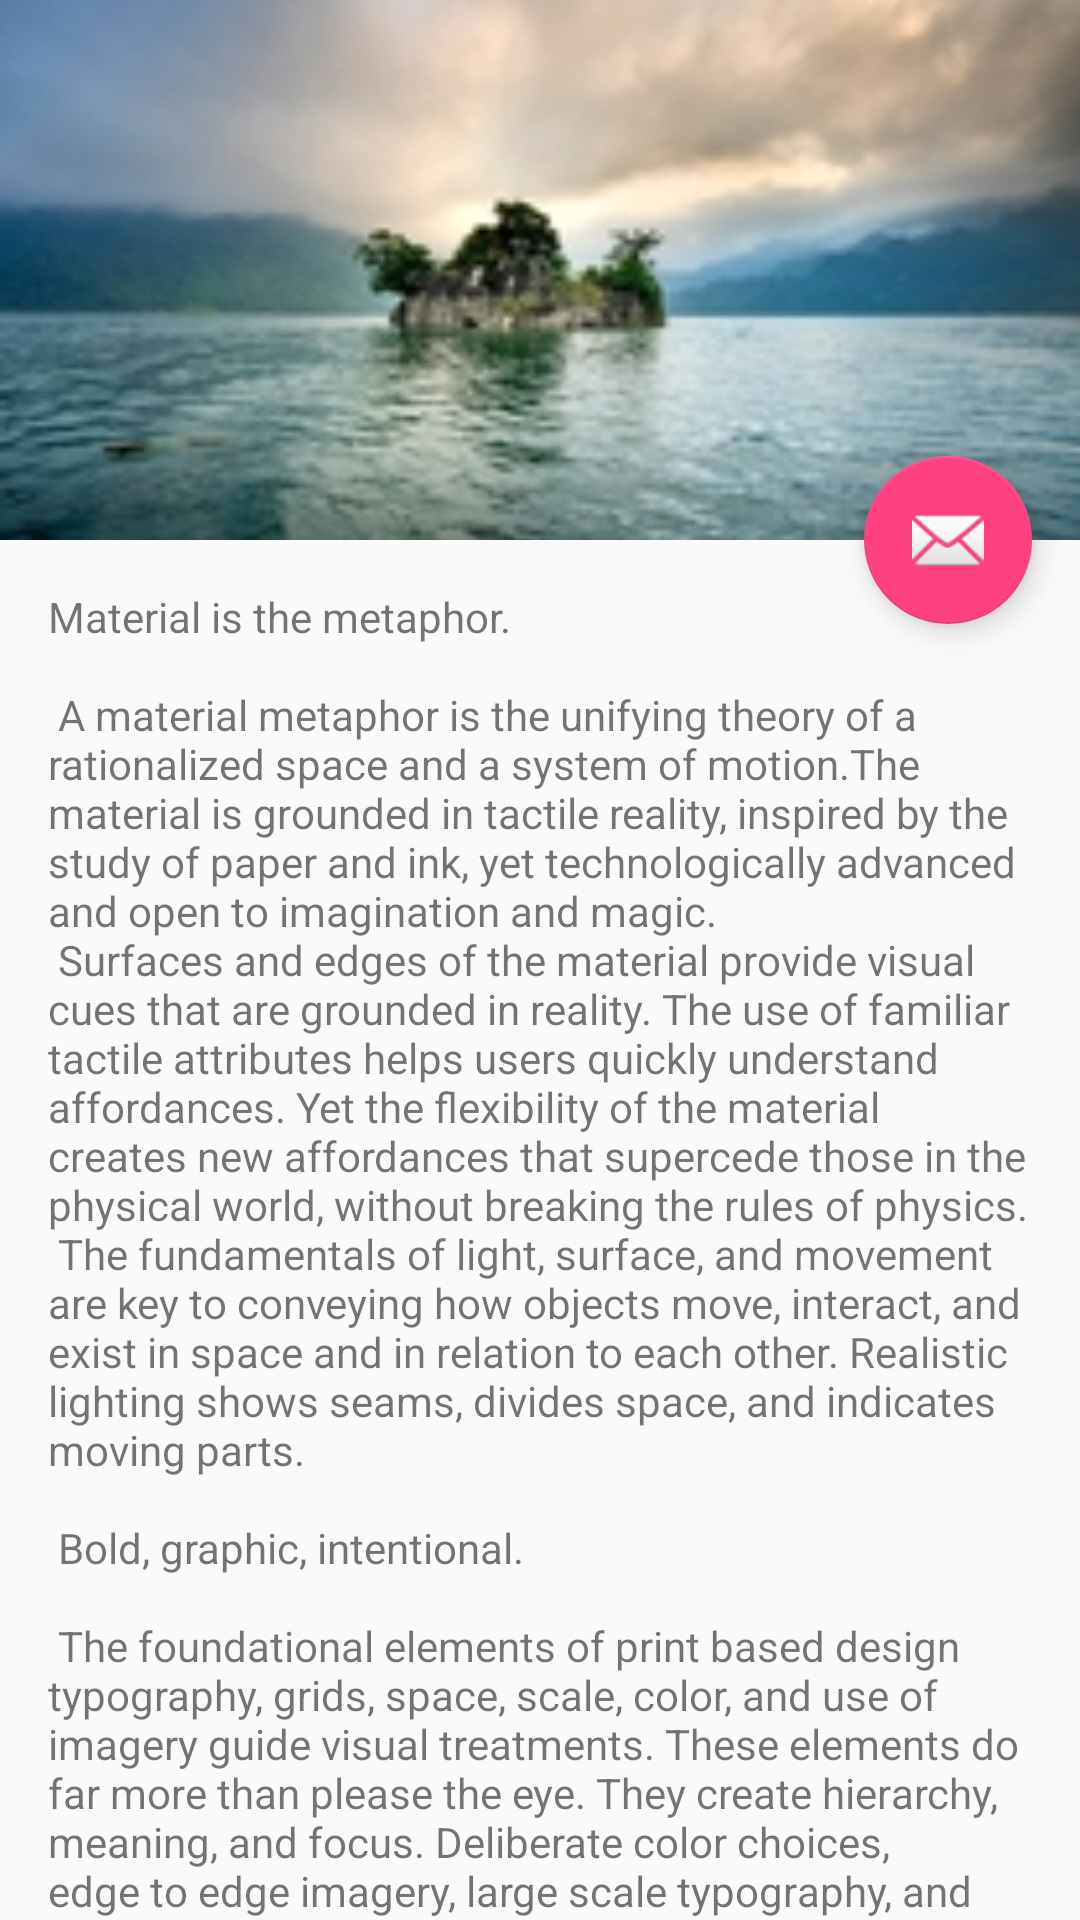

Named icons in this screenshot (1080 × 1920) and their centers, point (x, y):
email: point (948, 540)
